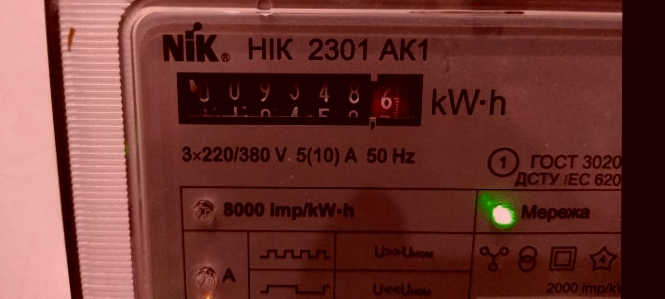0: (195, 77, 211, 103), (226, 74, 240, 101)
3: (287, 76, 301, 101)
4: (314, 74, 332, 104)
6: (377, 82, 394, 111)
8: (346, 77, 361, 105)
9: (257, 78, 271, 105)
screen: (157, 57, 436, 137)
